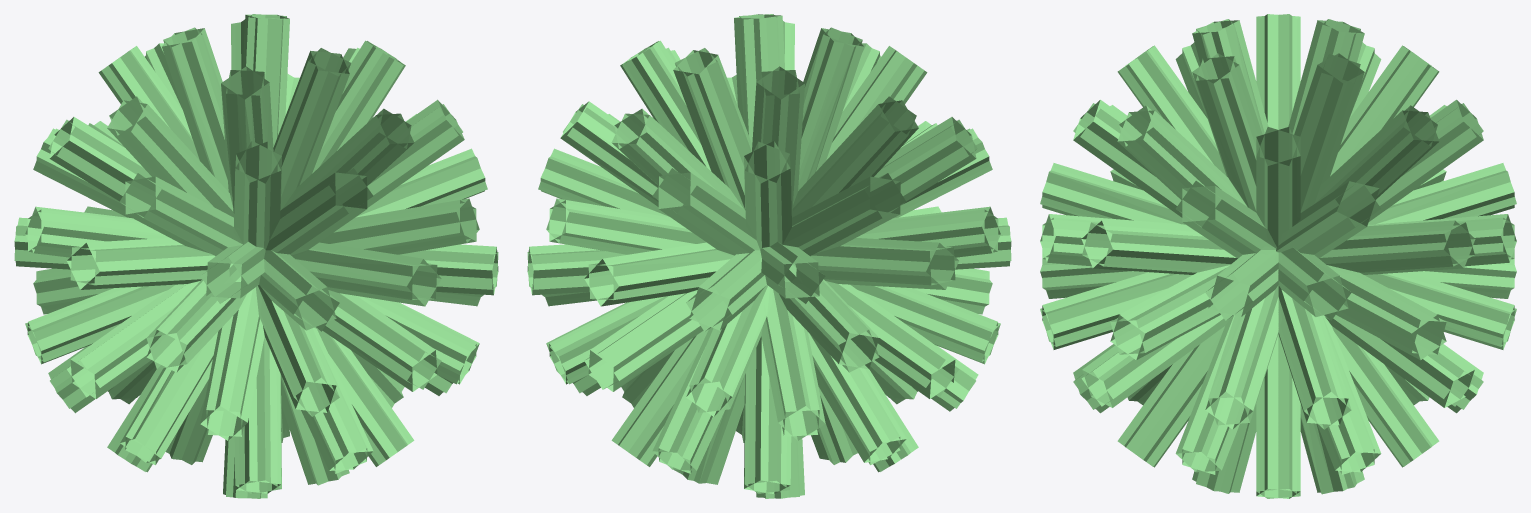
File: GreatDirhombicosidodecacron.obj
3 views of the same model, side by side, from view 1: azimuth 30°, elevation 25°; view 2: azimuth 150°, elevation 25°; view 3: azimuth 270°, elevation 25° (orthographic).
Size of the model in its own units: 13.69 by 13.69 by 13.69.
